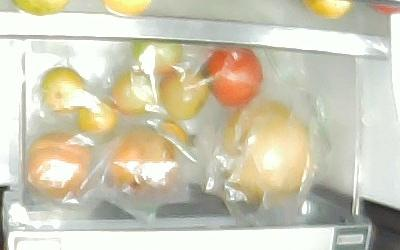peach_vinyl: (25, 130, 91, 197), (106, 126, 175, 190)
pear_vinyl: (225, 99, 310, 201)
tangerine_vinyl: (38, 65, 84, 116), (76, 101, 118, 135)
tomato_vinyl: (199, 46, 263, 106), (158, 69, 209, 120), (108, 67, 155, 116), (128, 41, 183, 76)
